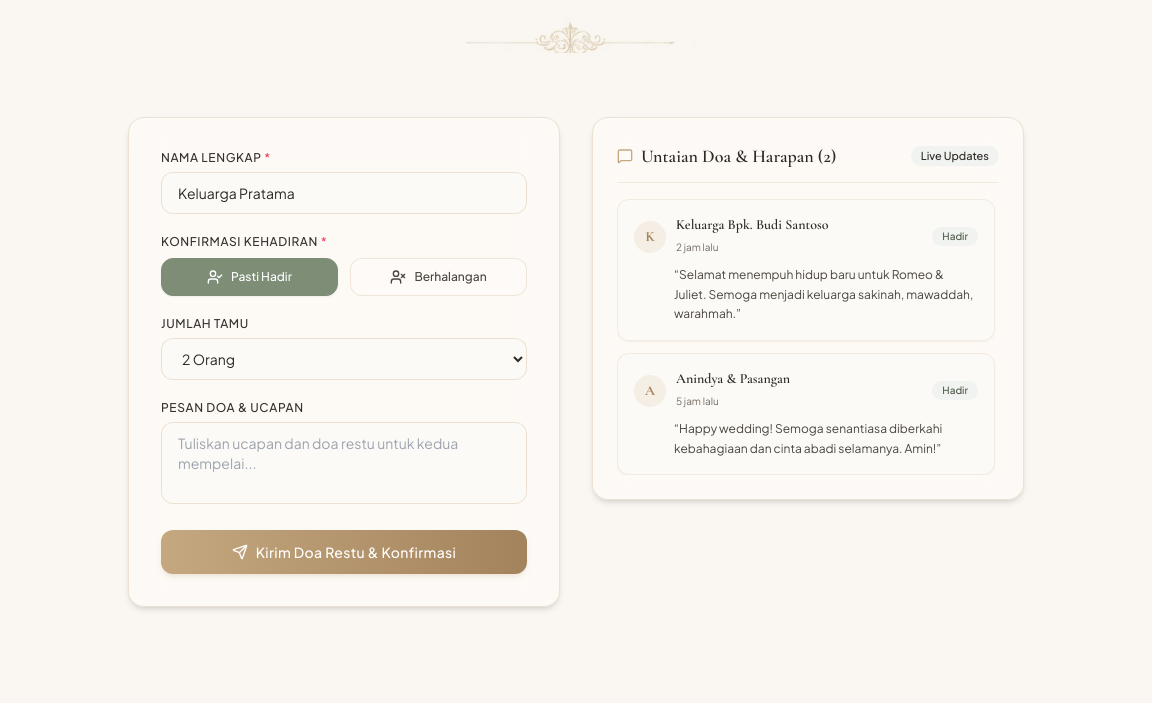
RsvpSection › submits form and shows thank you message
The image size is (1152, 703).
(page scrolled)
What coordinates should you click on to do the following:
click the button "Kirim Doa Restu & Konfirmasi"
I would click on:
 (344, 552)
Its box is [161,530,527,574].
(page scrolled)
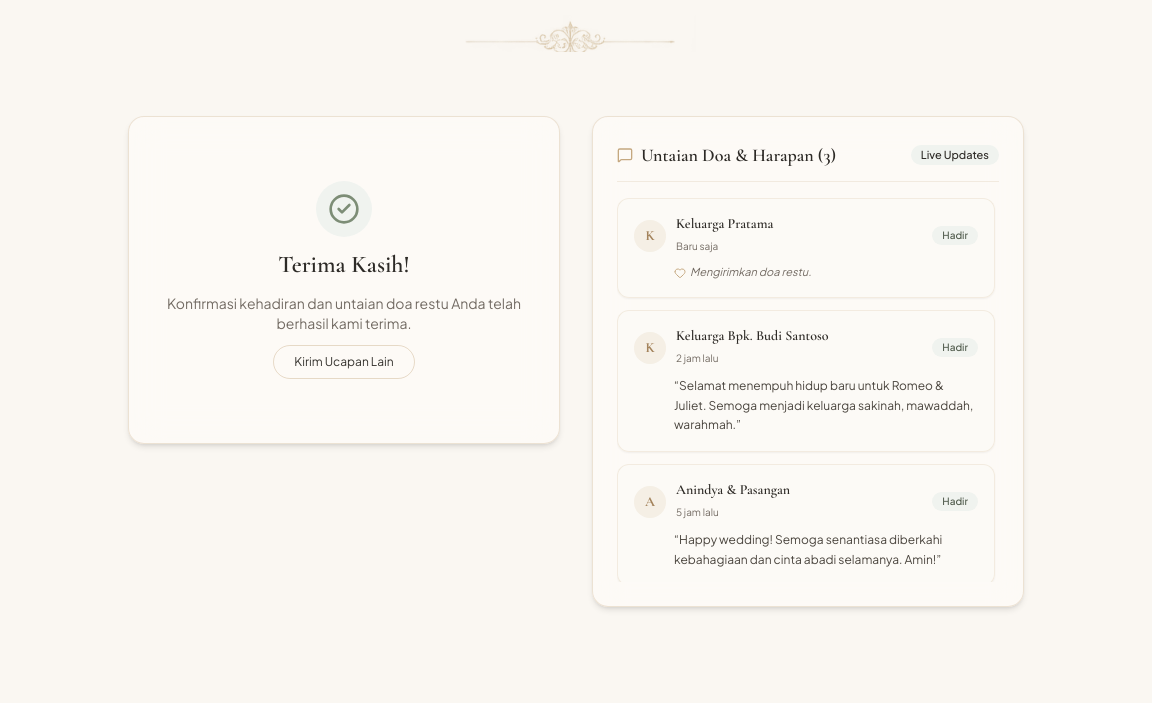
Expected: the heading "Terima Kasih!" is shown, [278,250,410,279]
